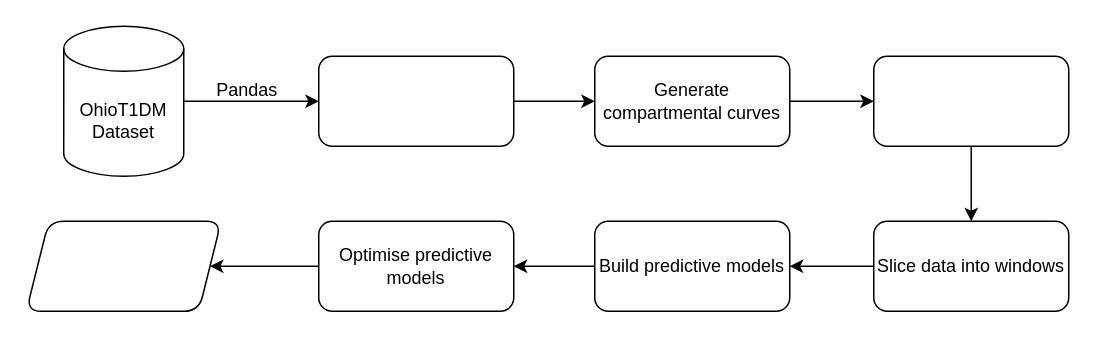
Image size: 1095x338. Some labels were removed from this diagram. Here are the shapes that lost their labels. From the top down, the centre of each, then its label:
At point 415,100: "Read data".
At point 970,100: "Filter and normalise data".
At point 123,265: "Evaluate".
